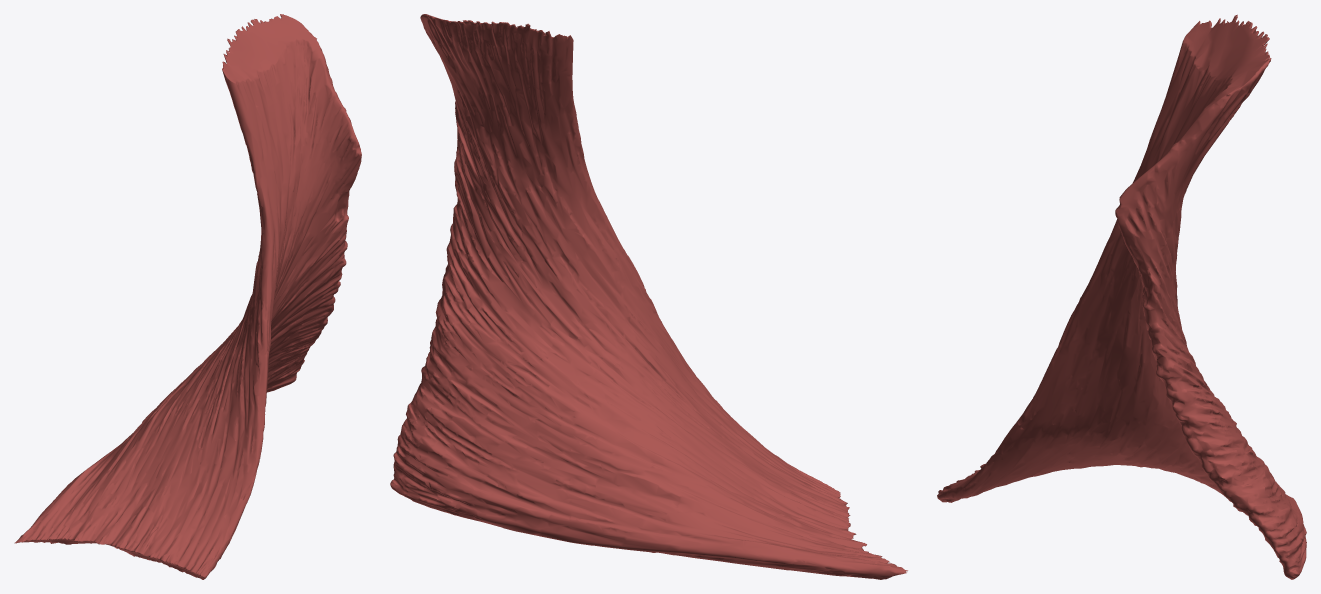
The model's file is FMA33586.glb.
The picture shows the model from 3 angles, left to right: view 1: azimuth 30°, elevation 25°; view 2: azimuth 150°, elevation 25°; view 3: azimuth 270°, elevation 25°; orthographic projection. The views are drawn at different scales.
Parts seen in each view (by area): view 1: FMA33586; view 2: FMA33586; view 3: FMA33586.
Part boxes in pixels (x1,y1,x2,y2): FMA33586: [14, 14, 361, 579]; FMA33586: [390, 14, 907, 579]; FMA33586: [937, 14, 1306, 579].
Size of the model in its own units: 0.1313 by 0.1542 by 0.0893.
